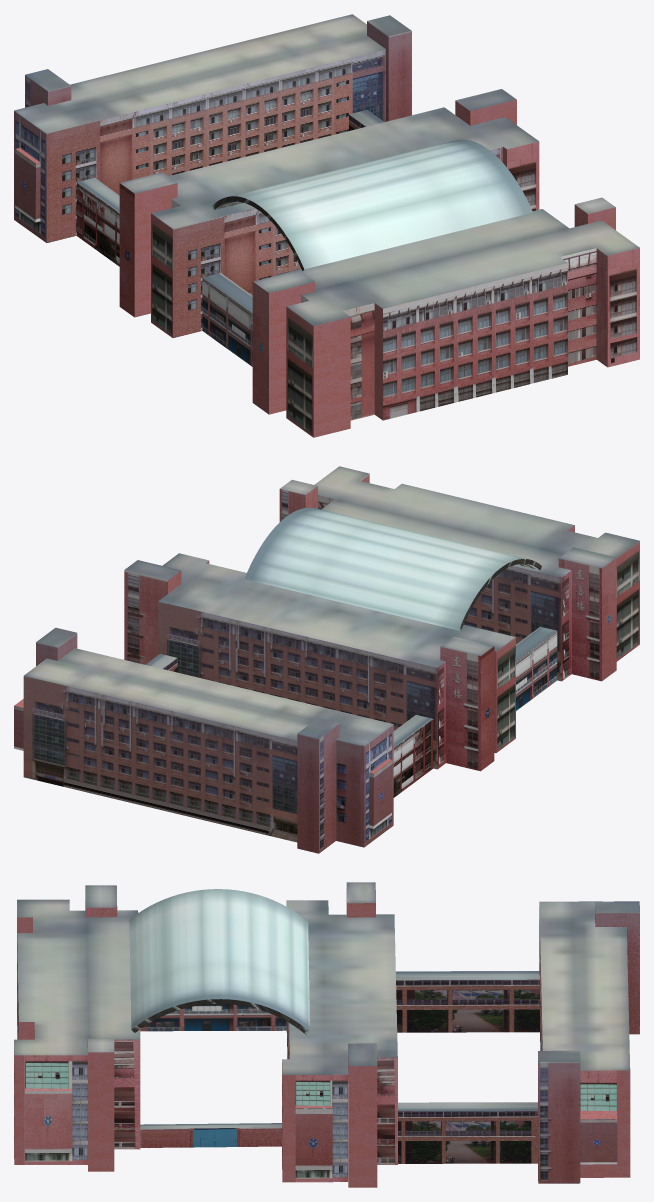
File: jxl_(s,r,q).gltf
3 views of the same model, one above another, from view 1: azimuth 30°, elevation 25°; view 2: azimuth 150°, elevation 25°; view 3: azimuth 270°, elevation 25° (orthographic). The views are drawn at different scales.
Visible parts, largest first — view 1: Mesh02#12, Mesh01#10; view 2: Mesh02#12, Mesh01#10; view 3: Mesh02#12, Mesh01#10.
Part boxes in pixels (x1,y1,x2,y2): Mesh02#12: (14, 14, 639, 437); Mesh01#10: (212, 139, 532, 270); Mesh02#12: (14, 466, 639, 853); Mesh01#10: (244, 507, 541, 631); Mesh02#12: (14, 882, 639, 1187); Mesh01#10: (129, 889, 309, 1034).
Bounding box in the file's own units: 0.0826 × 0.03 × 0.1189.
Materials: 8 (7 with a texture image).
